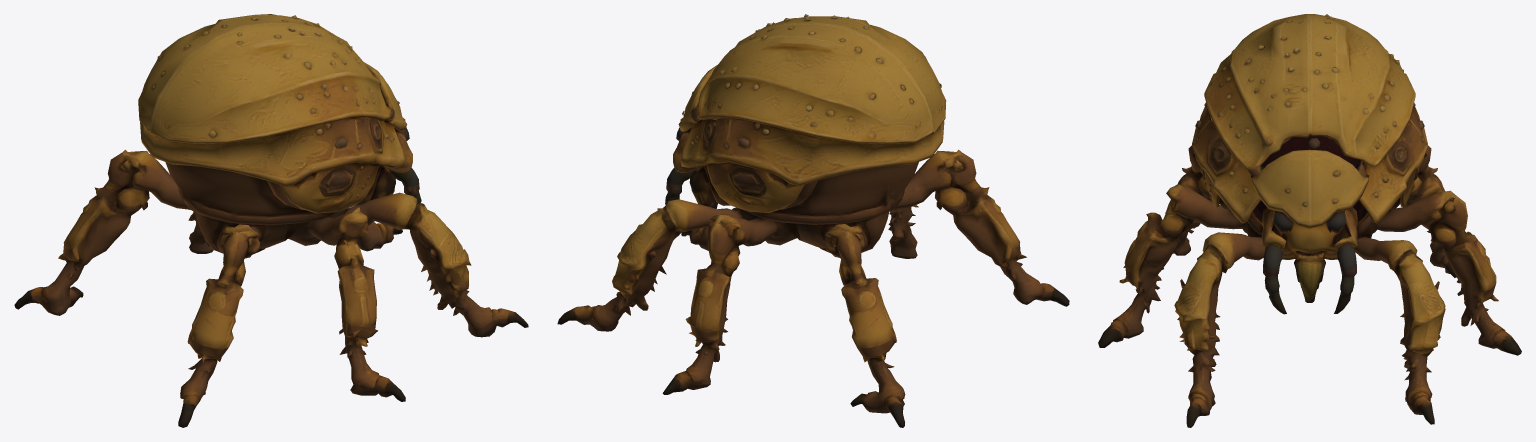
The picture shows the model from 3 angles, left to right: view 1: azimuth 30°, elevation 25°; view 2: azimuth 150°, elevation 25°; view 3: azimuth 270°, elevation 25°; orthographic projection. The views are drawn at different scales.
Visible parts, largest first — view 1: tripo_node_24913316-f30a-43a9-9719-fc724e46e35f; view 2: tripo_node_24913316-f30a-43a9-9719-fc724e46e35f; view 3: tripo_node_24913316-f30a-43a9-9719-fc724e46e35f.
Boxes of the visible parts, left/top/right/bottom form: tripo_node_24913316-f30a-43a9-9719-fc724e46e35f: left=14, top=14, right=528, bottom=427; tripo_node_24913316-f30a-43a9-9719-fc724e46e35f: left=557, top=14, right=1069, bottom=427; tripo_node_24913316-f30a-43a9-9719-fc724e46e35f: left=1098, top=14, right=1521, bottom=427.
Size of the model in its own units: 0.9746 by 0.7847 by 1.
1 material, 1 textured.
